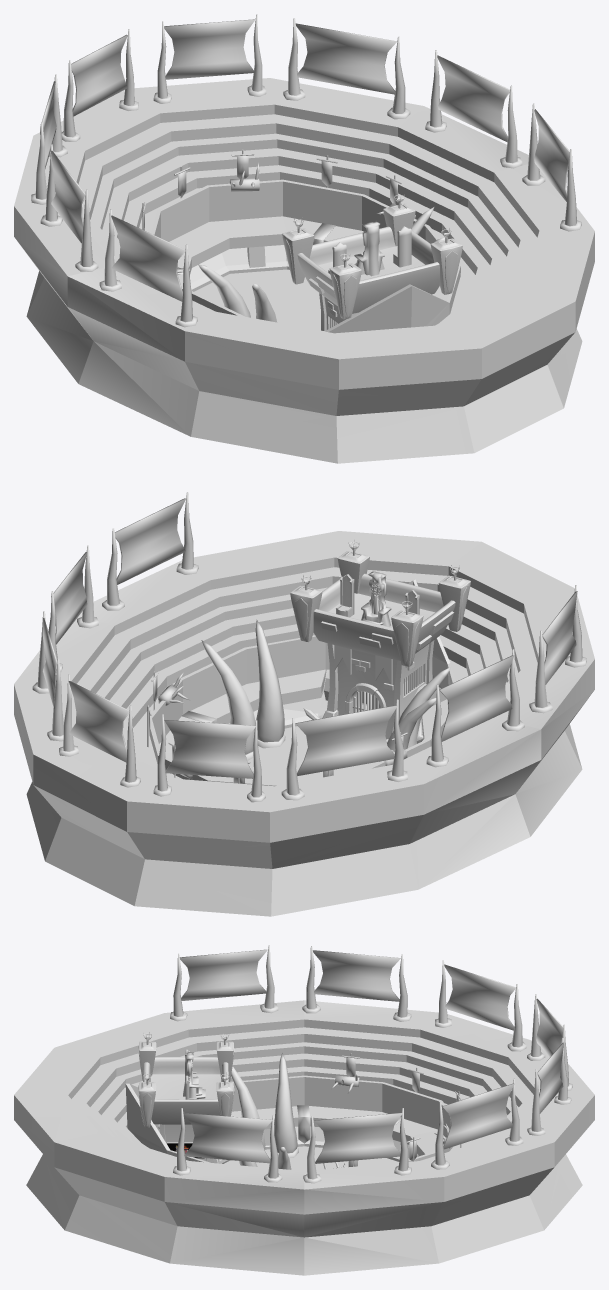
File: arena-nova.fbx
The picture shows the model from 3 angles, top to bottom: view 1: azimuth 30°, elevation 25°; view 2: azimuth 150°, elevation 25°; view 3: azimuth 270°, elevation 25°; orthographic projection. The views are drawn at different scales.
Visible parts, largest first — view 1: Arena_Arquibancada, Arena_Bandeiras_Grandes, Arena_Concrete_3, Arena_Bandeiras_Madeira, Arena_Concrete_1, Arena_Ground, Arena_Bones, Tower_Concrete_2, Arena_Bandeiras_Faixas, Tower_Crystals, Throne_Imperator; view 2: Arena_Arquibancada, Arena_Bandeiras_Grandes, Arena_Concrete_1, Arena_Bandeiras_Madeira, Arena_Concrete_3, Arena_Bones, Arena_Ground, Tower_Concrete_2, Tower_Steel, Tower_Crystals, Throne_Imperator, Arena_Bandeiras_Faixas (+2 smaller); view 3: Arena_Arquibancada, Arena_Bandeiras_Grandes, Arena_Concrete_3, Arena_Bandeiras_Madeira, Arena_Concrete_1, Arena_Bones, Arena_Bandeiras_Faixas, Arena_Ground, Tower_Crystals, Throne_Imperator.
Boxes of the visible parts, box(x1,y1,x2,y2) form: Arena_Arquibancada: box(14, 78, 594, 463); Arena_Bandeiras_Grandes: box(40, 19, 569, 301); Arena_Concrete_3: box(150, 179, 460, 333); Arena_Bandeiras_Madeira: box(31, 14, 581, 327); Arena_Concrete_1: box(247, 203, 462, 331); Arena_Ground: box(194, 269, 320, 330); Arena_Bones: box(171, 163, 445, 322); Tower_Concrete_2: box(296, 198, 449, 317); Arena_Bandeiras_Faixas: box(143, 155, 402, 276); Tower_Crystals: box(284, 239, 457, 316); Throne_Imperator: box(354, 221, 384, 276); Arena_Arquibancada: box(14, 531, 594, 916); Arena_Bandeiras_Grandes: box(42, 498, 577, 778); Arena_Concrete_1: box(290, 551, 470, 739); Arena_Bandeiras_Madeira: box(32, 492, 586, 802); Arena_Concrete_3: box(150, 579, 455, 786); Arena_Bones: box(169, 619, 450, 761); Arena_Ground: box(204, 726, 378, 784); Tower_Concrete_2: box(303, 545, 457, 690); Tower_Steel: box(344, 665, 423, 737); Tower_Crystals: box(295, 587, 468, 743); Throne_Imperator: box(361, 571, 391, 626); Arena_Bandeiras_Faixas: box(149, 575, 416, 783); Arena_Arquibancada: box(14, 1000, 594, 1275); Arena_Bandeiras_Grandes: box(179, 949, 563, 1163); Arena_Concrete_3: box(125, 1075, 453, 1162); Arena_Bandeiras_Madeira: box(170, 945, 572, 1183); Arena_Concrete_1: box(138, 1041, 270, 1163); Arena_Bones: box(231, 1053, 449, 1169); Arena_Bandeiras_Faixas: box(193, 1057, 459, 1166); Arena_Ground: box(219, 1146, 399, 1170); Tower_Crystals: box(138, 1048, 234, 1163); Throne_Imperator: box(183, 1052, 205, 1099).
Bounding box in the file's own units: 61.05 × 23.95 × 79.22.
